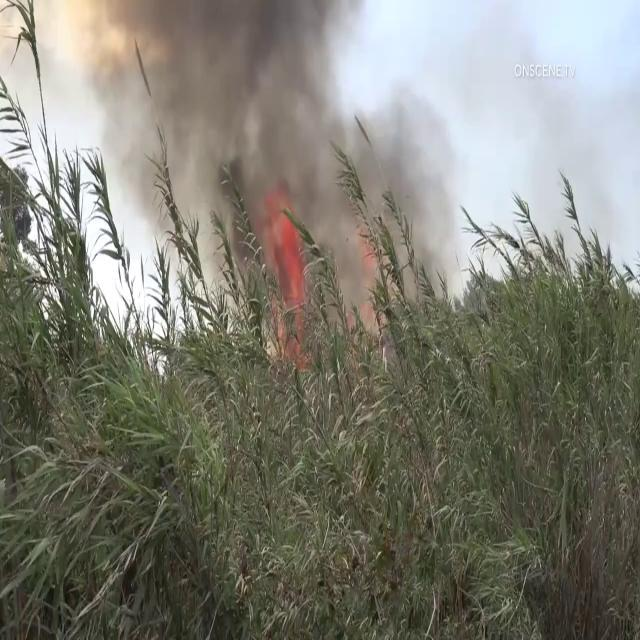Fire: (258, 193, 313, 356)
Smoke: (83, 0, 470, 284)
